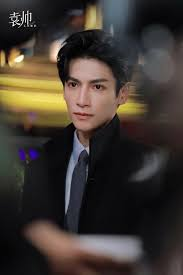asian_male: (50, 19, 145, 131)
